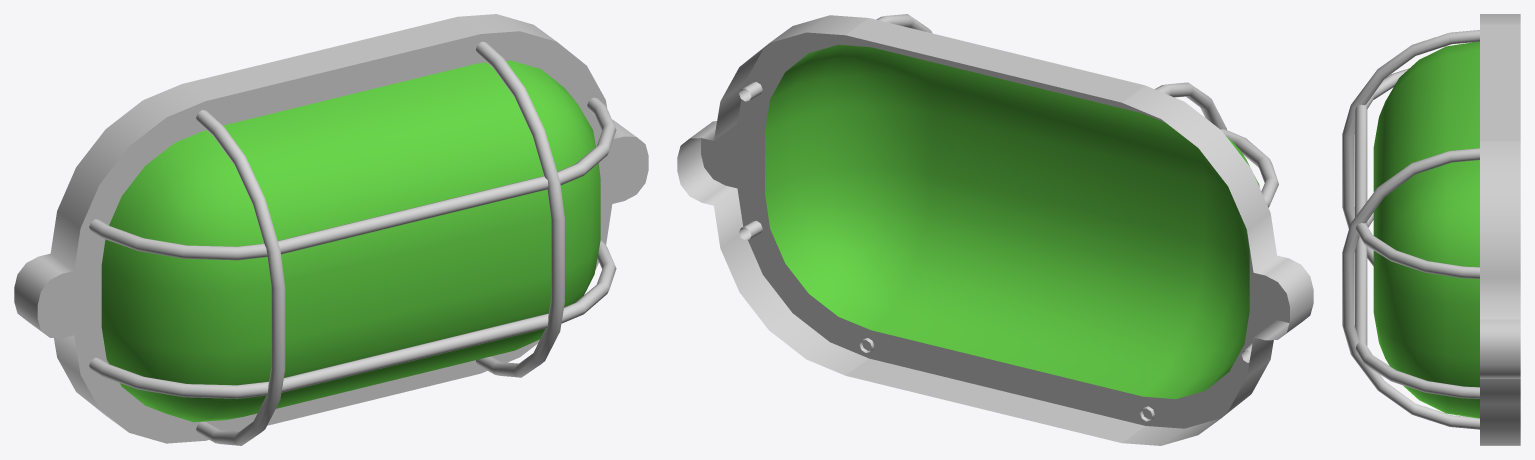
File: Lamp.fbx
The picture shows the model from 3 angles, left to right: view 1: azimuth 30°, elevation 25°; view 2: azimuth 150°, elevation 25°; view 3: azimuth 270°, elevation 25°; orthographic projection. The views are drawn at different scales.
Visible parts, largest first — view 1: Lamp; view 2: Lamp; view 3: Lamp.
Part boxes in pixels (<box>): Lamp: <box>14,14,648,445</box>; Lamp: <box>677,14,1313,445</box>; Lamp: <box>1342,14,1520,445</box>.
Bounding box in the file's own units: 0.3881 × 0.2061 × 0.1134.
